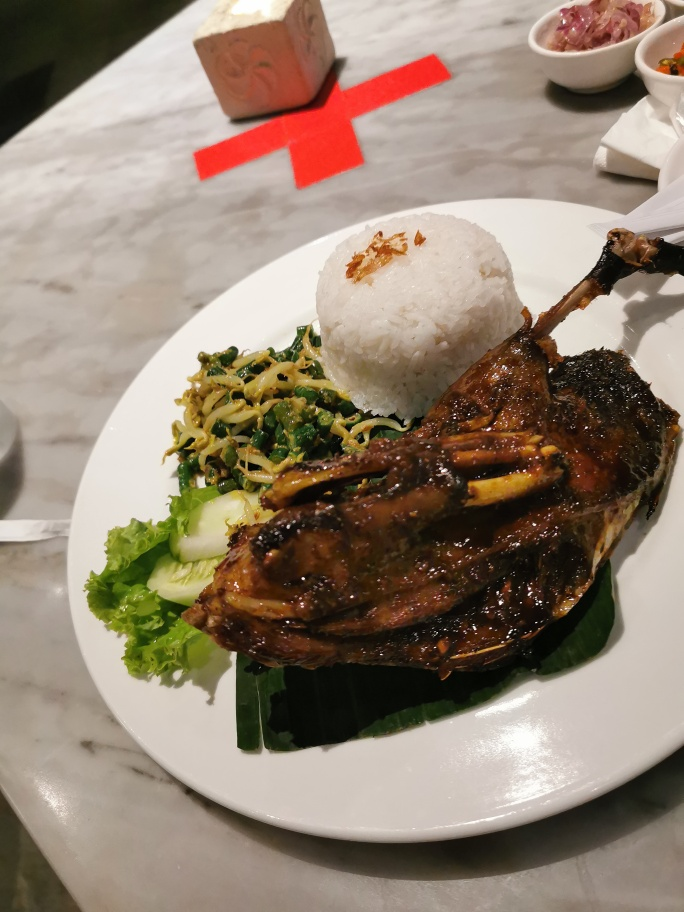bebek bakar: (185, 236, 684, 663)
nasi putih: (306, 204, 520, 413)
